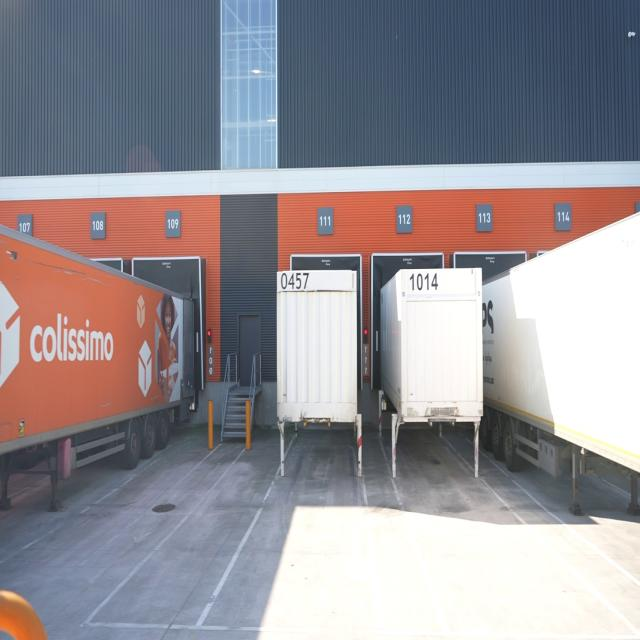Code: (405, 267, 444, 294), (278, 268, 312, 294)
